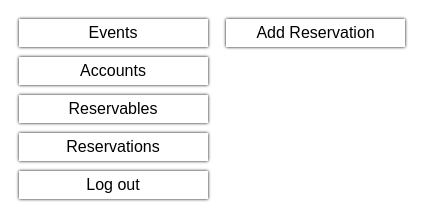
Test: adminMenu buttons work
The width and height of the screenshot is (425, 219).
Click the button with id "eventsButton" at (113,33), box [18, 19, 208, 47]
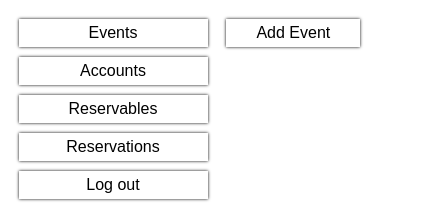
Expected: the number of "withRouter(AdminEventPage)" components is 1, [226, 19, 360, 47]
Click the button with id "accountsButton" at (113,71), box [18, 57, 208, 85]
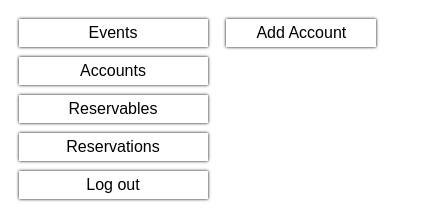
Expected: the number of "withRouter(AccountAdminPage)" components is 1, [226, 19, 376, 47]
Click the button with id "reservablesButton" at (113,109), box [18, 95, 208, 123]
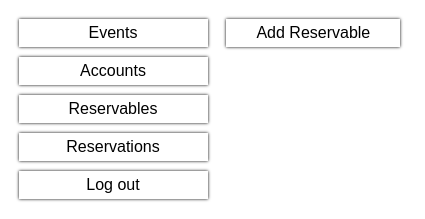
Expected: the number of "withRouter(AdminReservablePage)" components is 1, [226, 19, 400, 47]
Click the button with id "reservationsButton" at (113,147), box [18, 133, 208, 161]
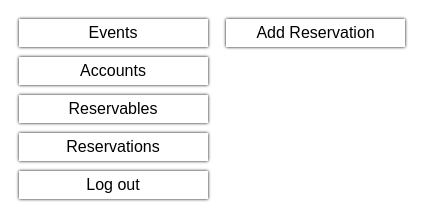
Expected: the number of "withRouter(AdminReservationPage)" components is 1, [226, 19, 405, 47]
